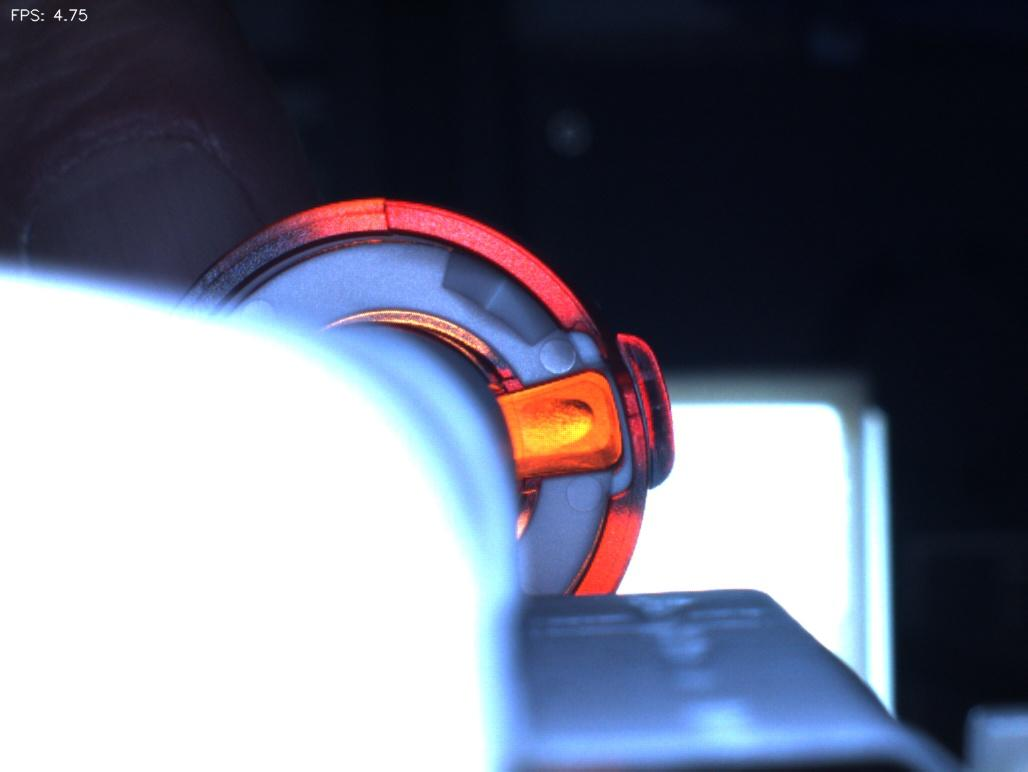Retassure: (511, 392, 601, 461)
